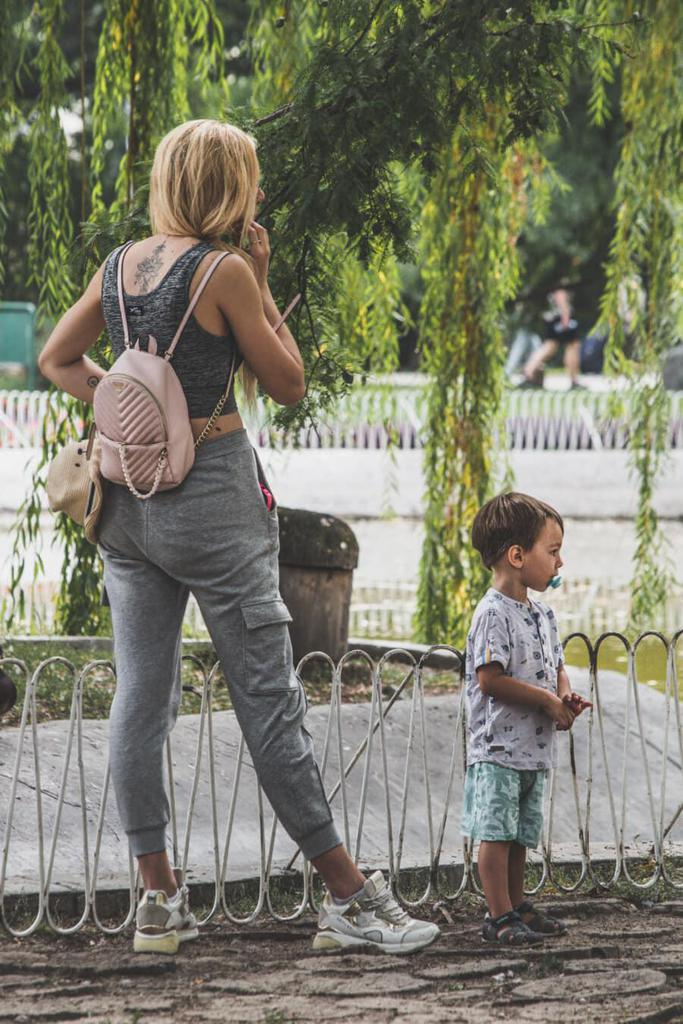child: (429, 482, 602, 947)
